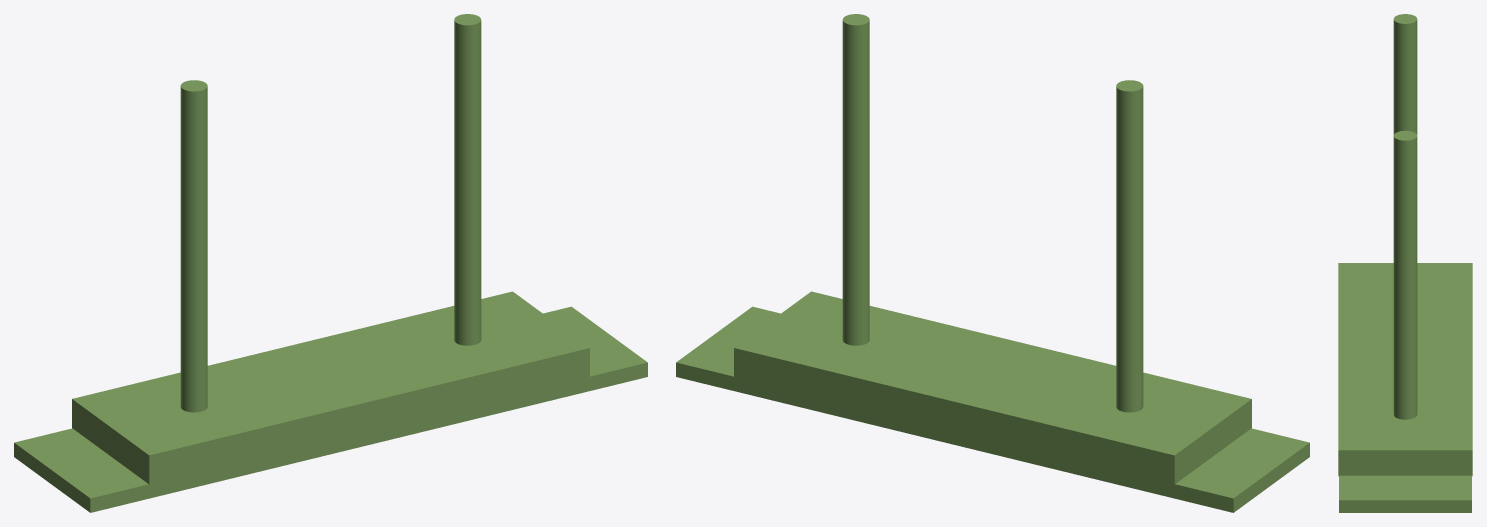
The model's file is light.fbx.
3 renders of one model, left to right at view 1: azimuth 30°, elevation 25°; view 2: azimuth 150°, elevation 25°; view 3: azimuth 270°, elevation 25°, orthographic. The views are drawn at different scales.
Parts seen in each view (by area): view 1: pCube2, pCube1, pCylinder2, pCylinder1; view 2: pCube2, pCube1, pCylinder2, pCylinder1; view 3: pCube2, pCylinder1, pCube1, pCylinder2.
Boxes of the visible parts, x1,y1,x2,y2 form: pCube2: [72, 291, 589, 485]; pCube1: [14, 306, 647, 512]; pCylinder2: [180, 80, 207, 412]; pCylinder1: [454, 14, 481, 345]; pCube2: [734, 291, 1251, 485]; pCube1: [676, 306, 1309, 512]; pCylinder2: [1116, 80, 1143, 412]; pCylinder1: [842, 14, 869, 345]; pCube2: [1338, 263, 1472, 476]; pCylinder1: [1393, 130, 1417, 419]; pCube1: [1339, 475, 1471, 512]; pCylinder2: [1393, 14, 1417, 134].
Size of the model in its own units: 2.04 by 1.32 by 0.4893.
